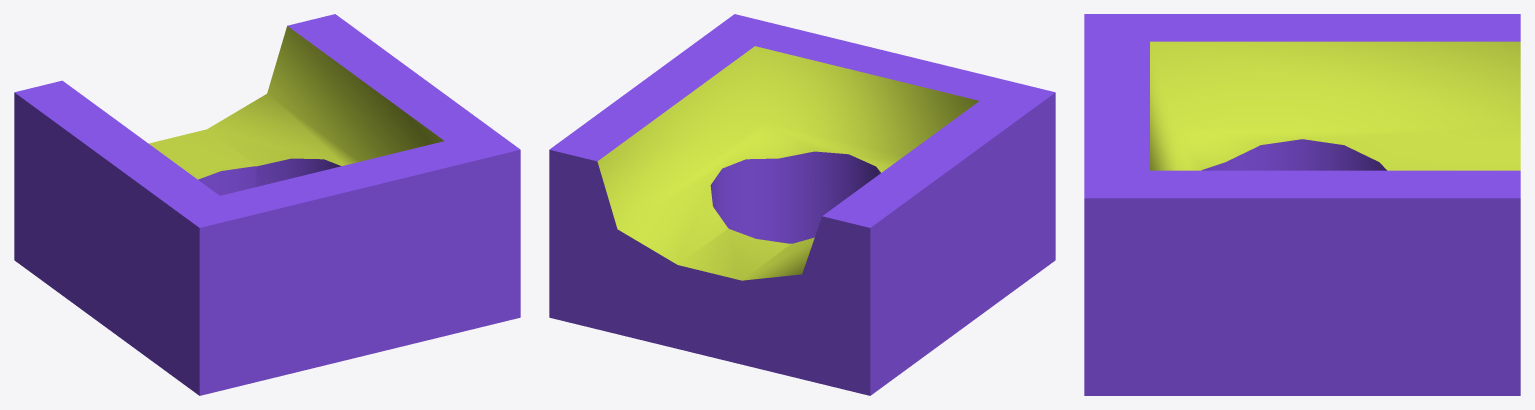
The model's file is end_hole_square.fbx.
3 renders of one model, left to right at view 1: azimuth 30°, elevation 25°; view 2: azimuth 150°, elevation 25°; view 3: azimuth 270°, elevation 25°, orthographic. The views are drawn at different scales.
Visible parts, largest first — view 1: end_hole_square; view 2: end_hole_square; view 3: end_hole_square.
Part boxes in pixels (x1,y1,x2,y2): end_hole_square: (14,14,520,395); end_hole_square: (549,14,1055,395); end_hole_square: (1084,14,1520,395).
Size of the model in its own units: 10 by 5 by 10.
